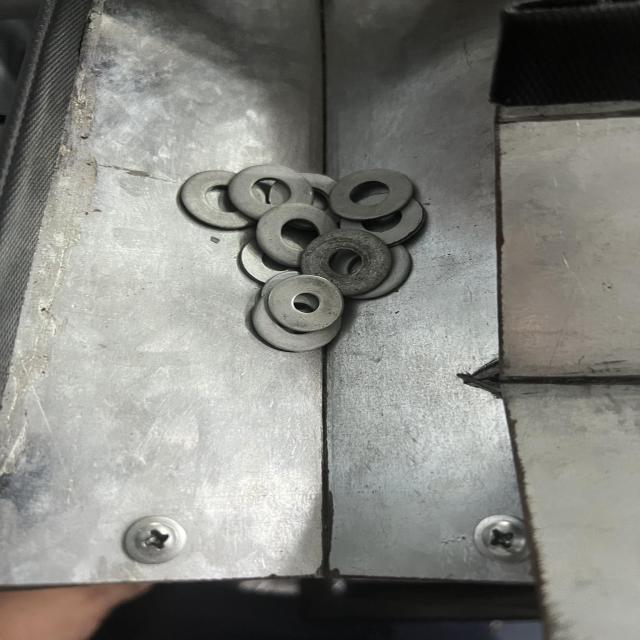washer: (329, 167, 415, 221), (268, 275, 346, 332)
